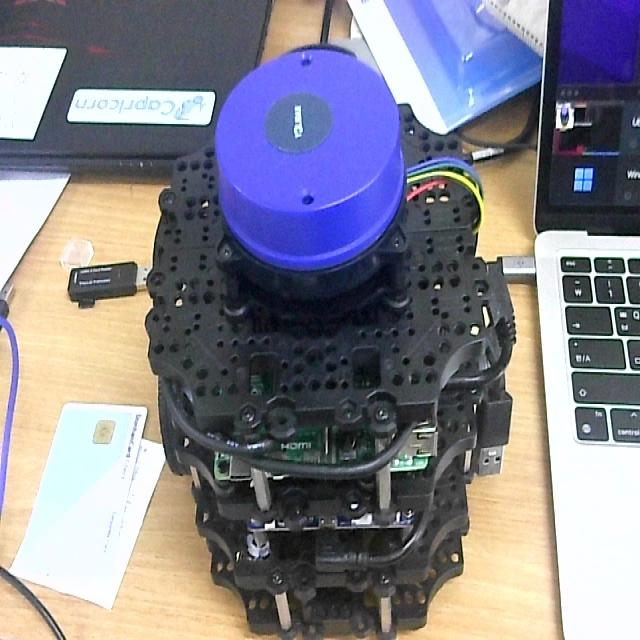turtle: (143, 41, 517, 640)
